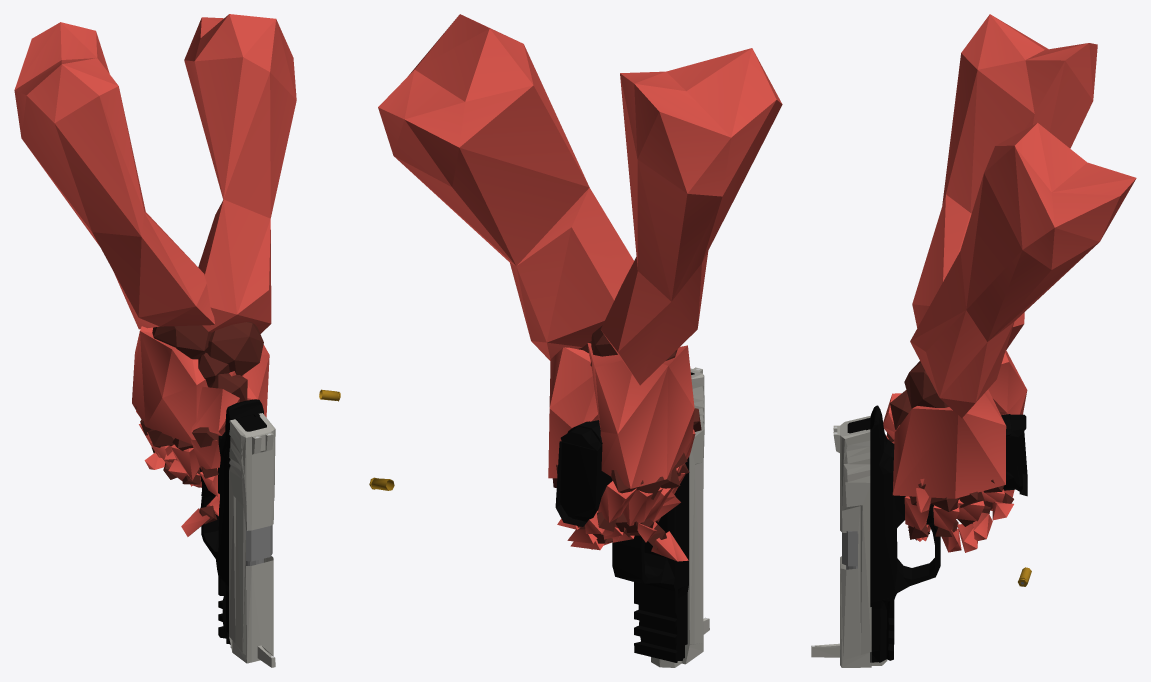
File: M&P9shootLowP_000209.obj
3 views of the same model, side by side, from view 1: azimuth 30°, elevation 25°; view 2: azimuth 150°, elevation 25°; view 3: azimuth 270°, elevation 25° (orthographic). The views are drawn at different scales.
Visible parts, largest first — view 1: Beta_Surface.001_Beta_Surface.002, slide_平面.002, Beta_Joints.001_Beta_Joints.002, triger_平面.001; view 2: Beta_Surface.001_Beta_Surface.002, triger_平面.001, slide_平面.002, Beta_Joints.001_Beta_Joints.002; view 3: Beta_Surface.001_Beta_Surface.002, triger_平面.001, slide_平面.002, Beta_Joints.001_Beta_Joints.002.
Part boxes in pixels (x1,y1,x2,y2): Beta_Surface.001_Beta_Surface.002: (14, 14, 296, 536); slide_平面.002: (229, 413, 275, 667); Beta_Joints.001_Beta_Joints.002: (135, 322, 263, 524); triger_平面.001: (199, 399, 272, 644); Beta_Surface.001_Beta_Surface.002: (378, 14, 782, 561); triger_平面.001: (560, 420, 688, 662); slide_平面.002: (651, 367, 709, 667); Beta_Joints.001_Beta_Joints.002: (552, 325, 701, 549); Beta_Surface.001_Beta_Surface.002: (883, 14, 1136, 552); triger_平面.001: (842, 405, 1026, 662); slide_平面.002: (811, 415, 887, 667); Beta_Joints.001_Beta_Joints.002: (887, 361, 1013, 540).
Bounding box in the file's own units: 46.99 × 80.1 × 40.35.
